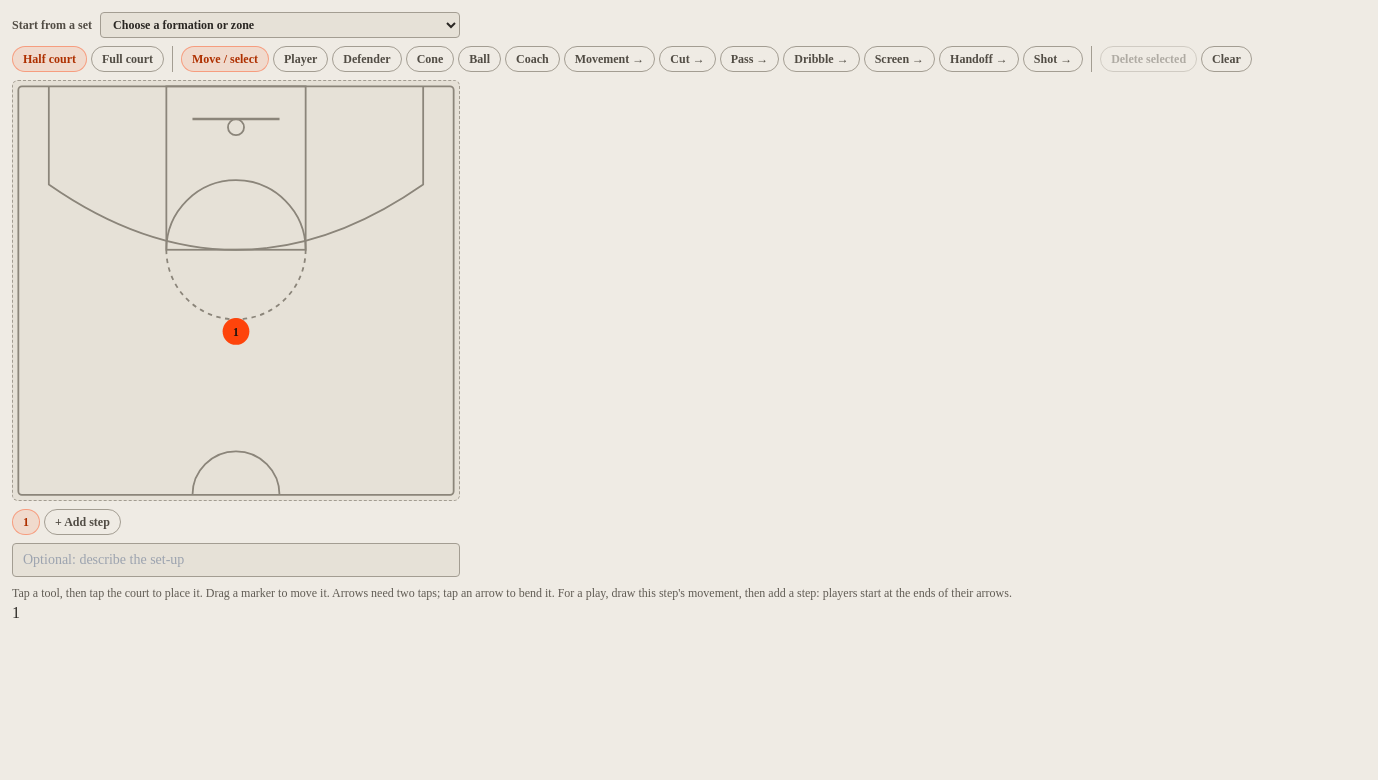
Test: CourtDiagram steps › a coach adds a step and edits its caption
Click the button "+ Add step" at point(82, 522), box [44,509,121,535]
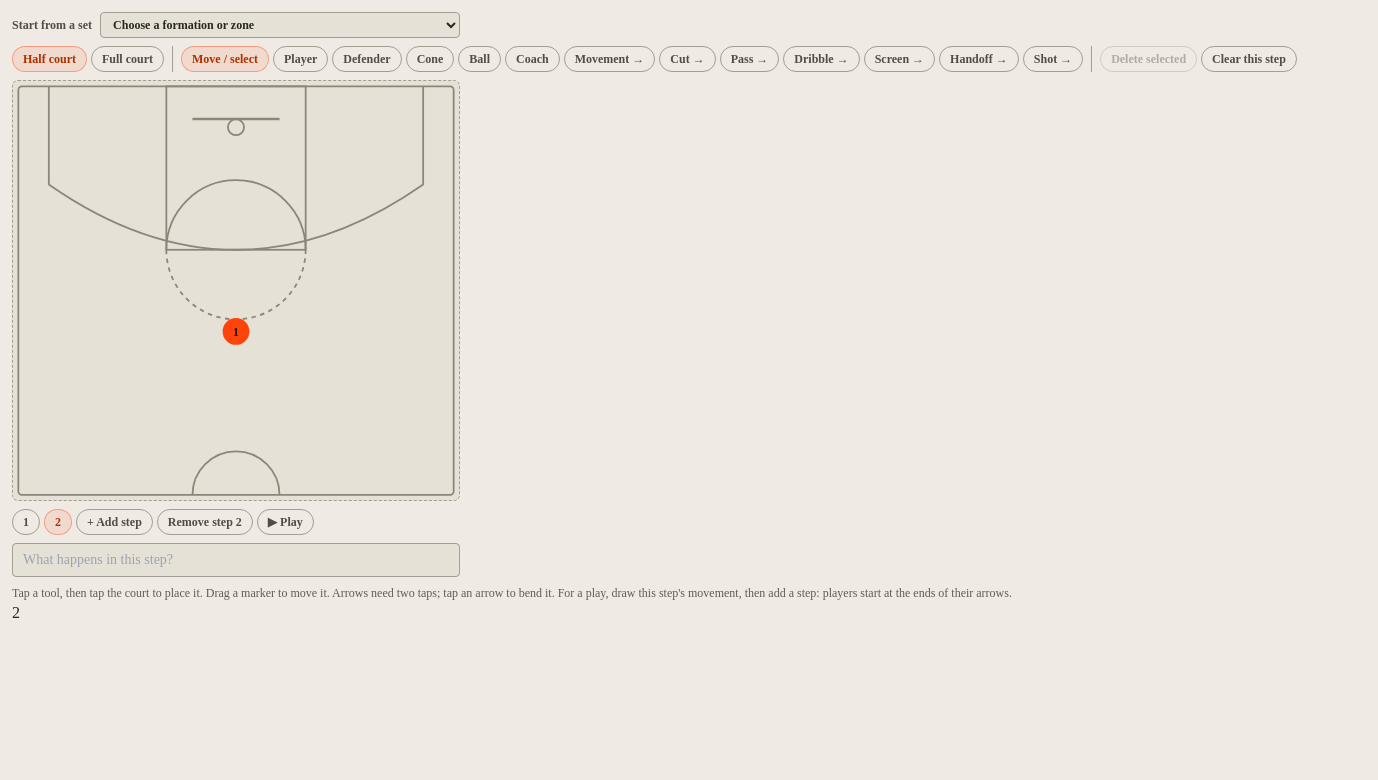
Now the text with test id "steps" reads "2", box [12,604,20,621]
Type "Drive left" into the field named "Step 2 description" at point(236, 560), box [12,543,460,577]
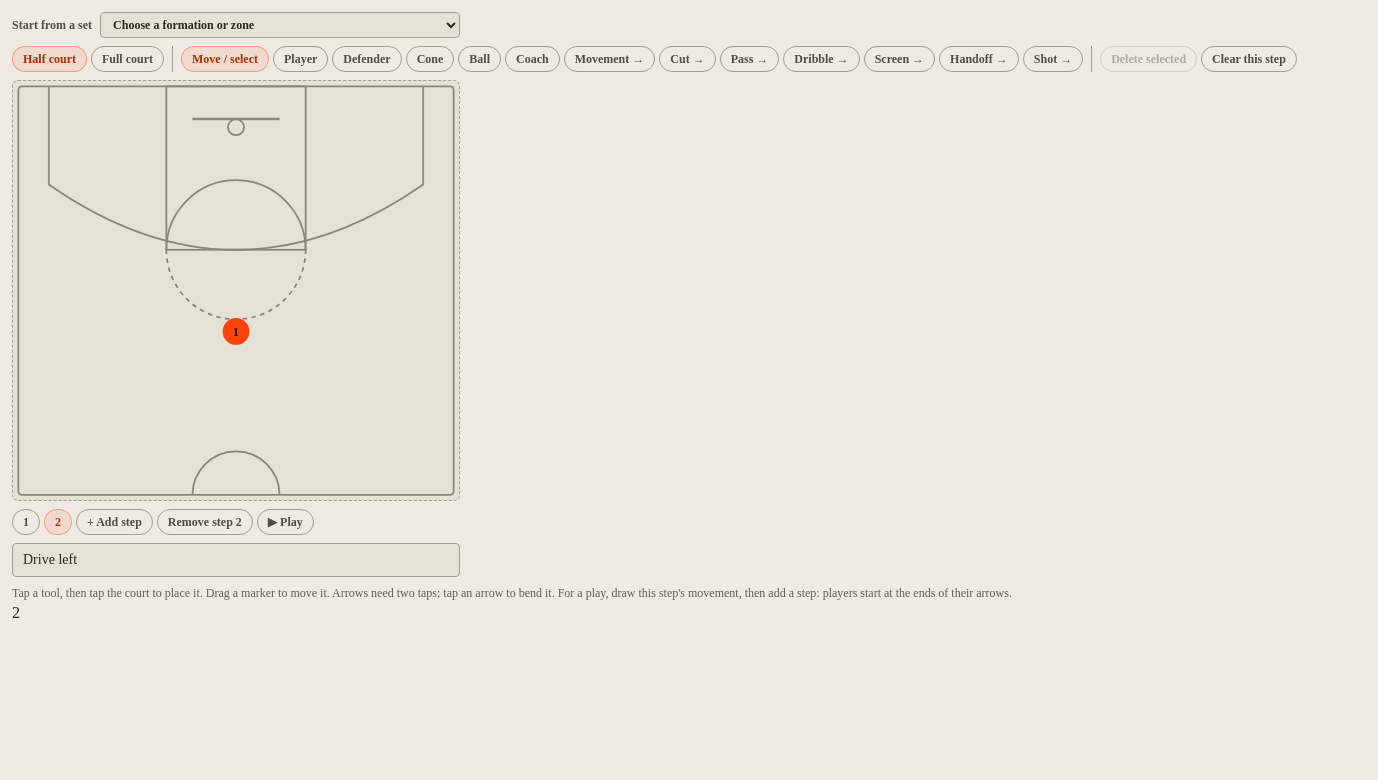
Click the button "Remove step 2" at point(205, 522), box [157,509,253,535]
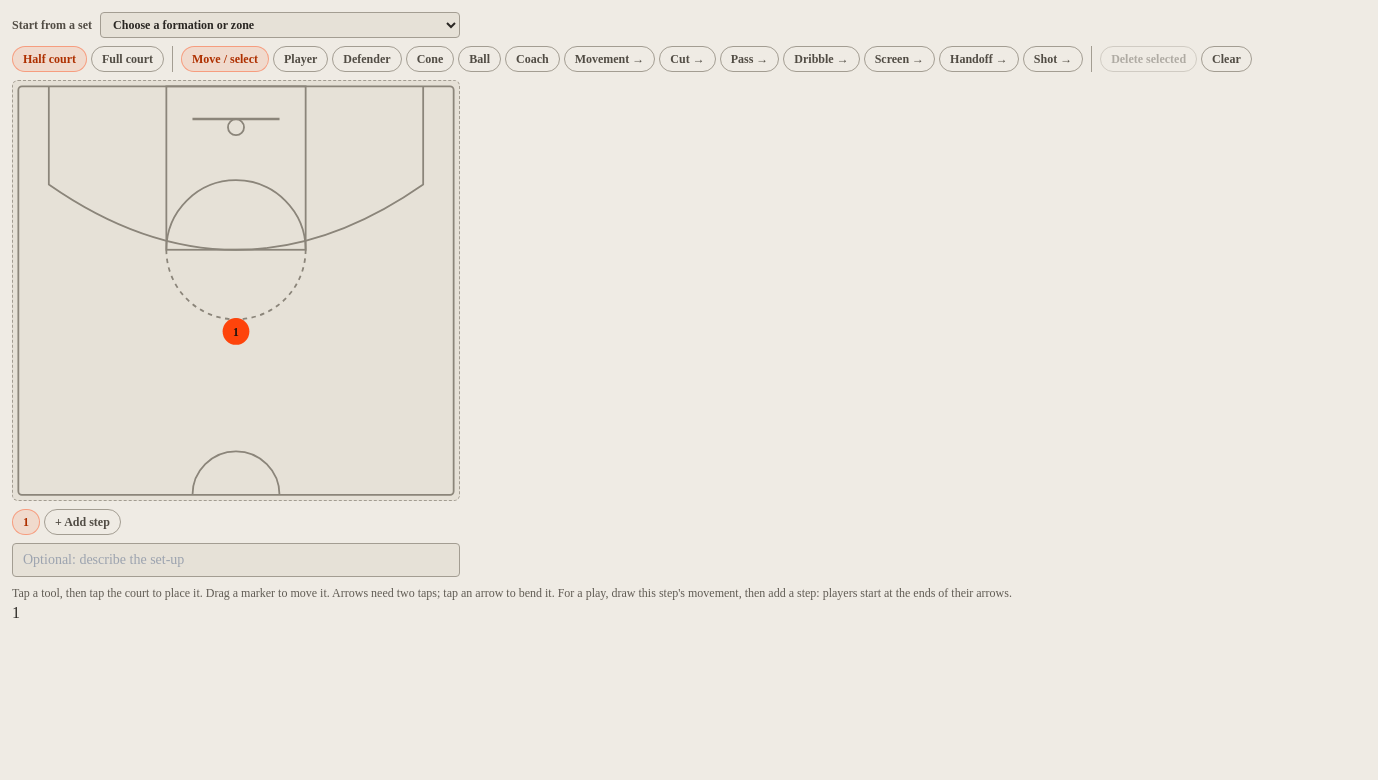
Now the text with test id "steps" reads "1", box [12,604,20,621]
